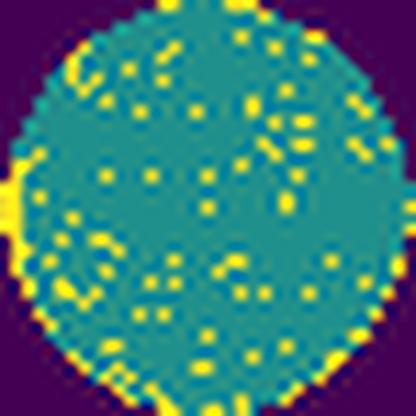Edge-Loc: (0, 139, 53, 301)
